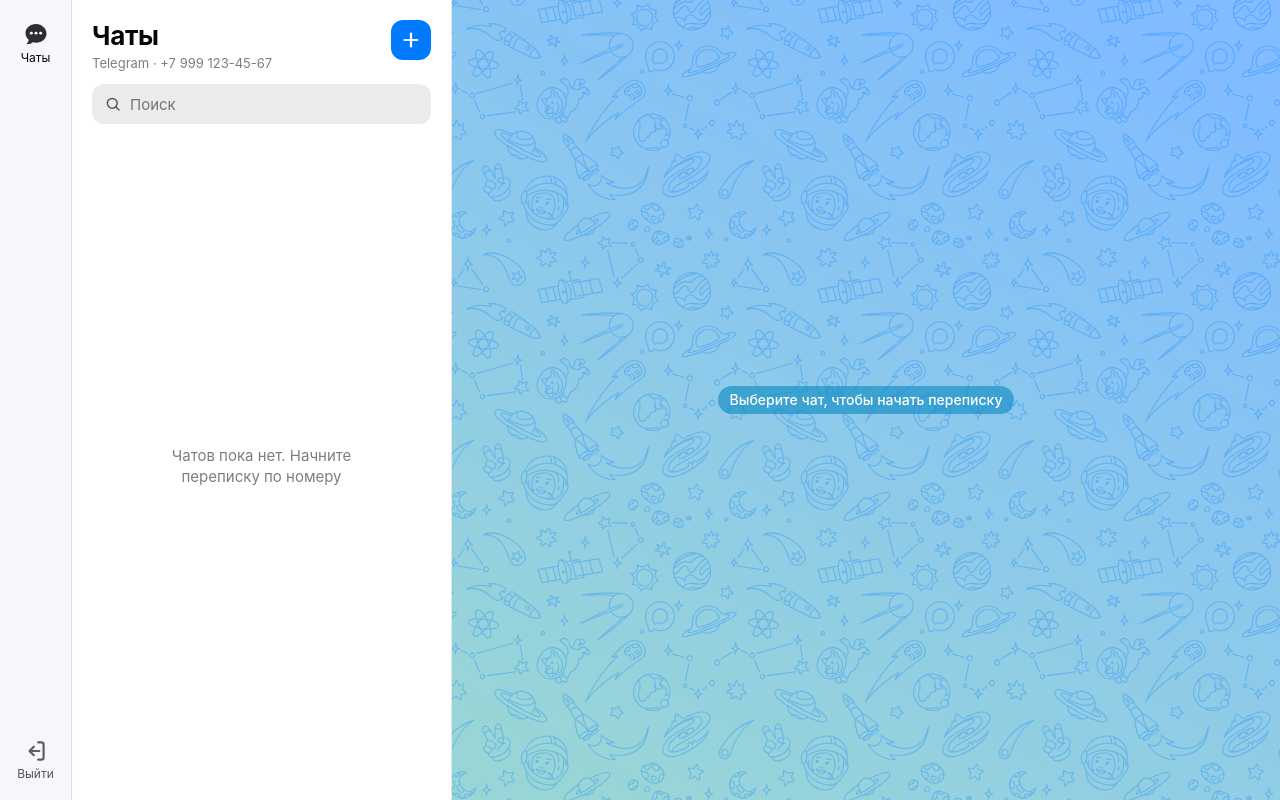
App › с сессией позволяет выйти
Click the button "Выйти" at (36,759), box [6, 730, 65, 788]
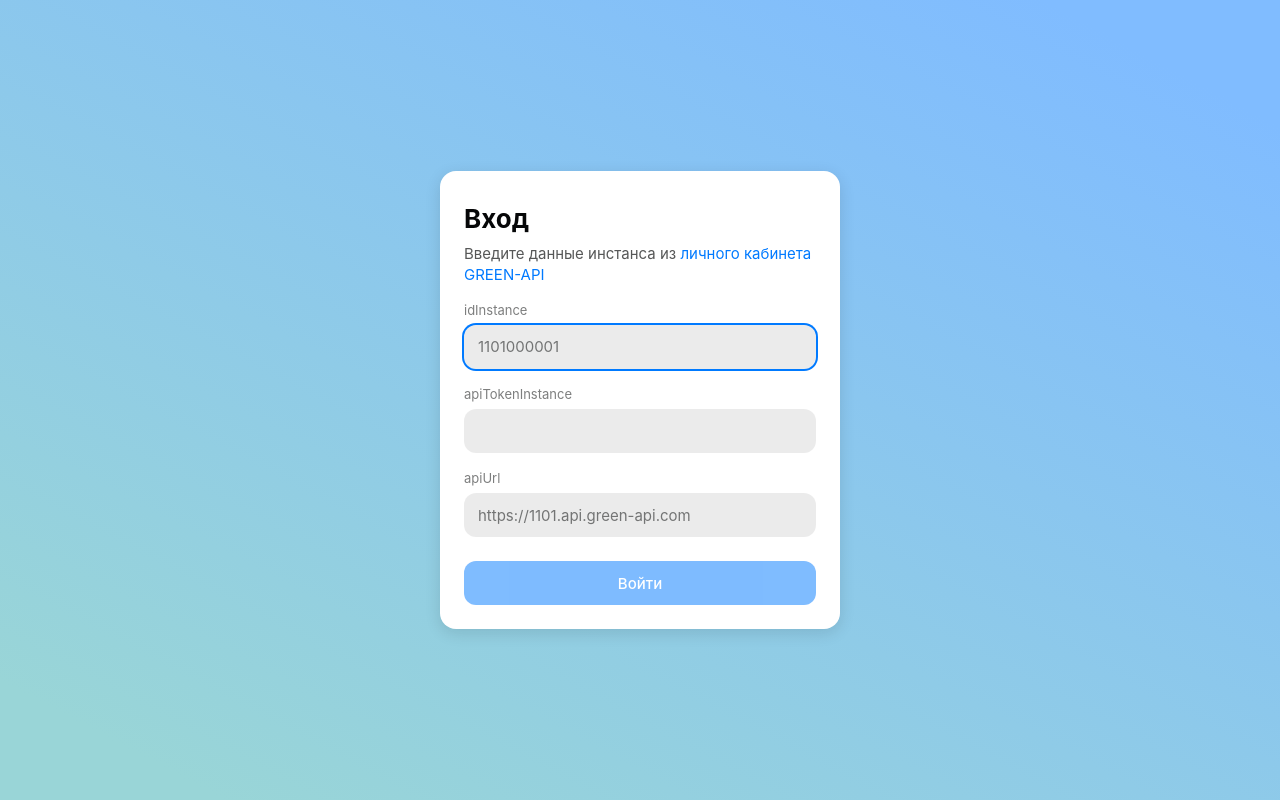
Check: the heading "Вход" is shown, box [464, 203, 529, 234]
